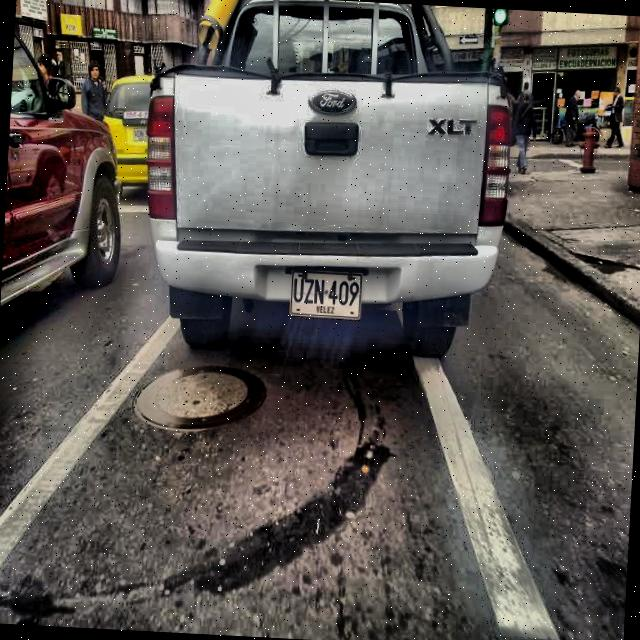0: (338, 280, 349, 306)
4: (328, 280, 339, 305)
9: (348, 281, 359, 306)
N: (314, 280, 324, 304)
U: (292, 278, 305, 304)
Z: (304, 279, 314, 304)
